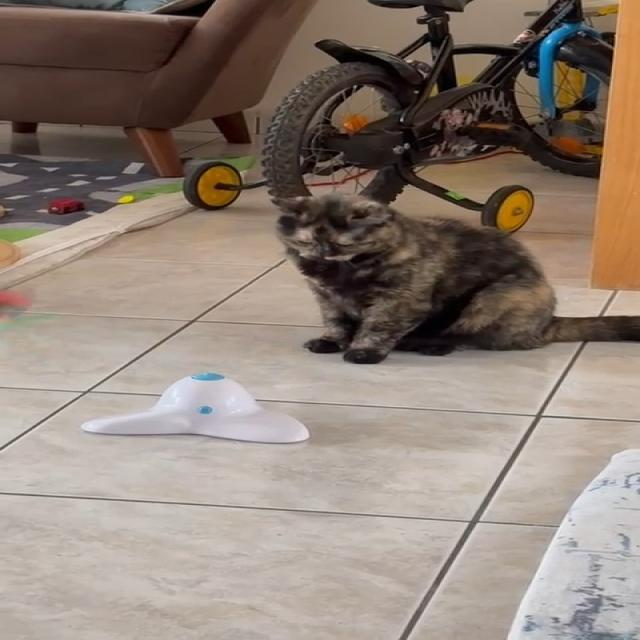authorized: (269, 191, 639, 364)
